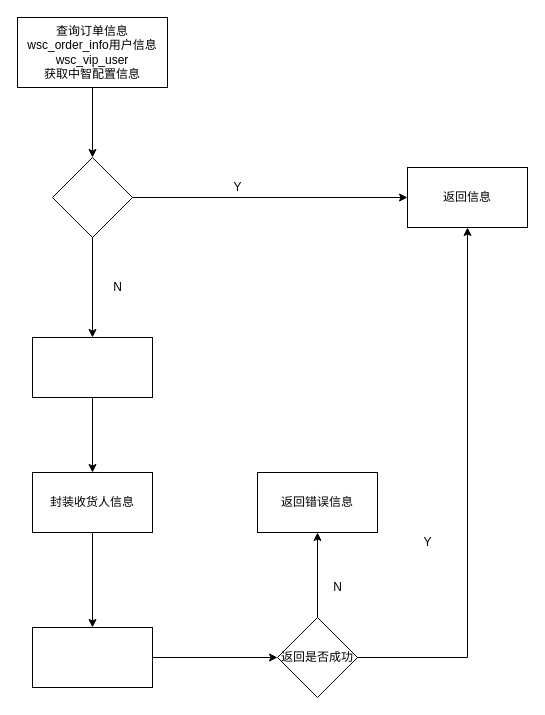
Image size: 545x715. Some labels were removed from this diagram. Here are the shapes that lost their labels. From the top down, the centre of each, then its label:
At [92,197]: "是否存在第三方订单号".
At [92,367]: "封装订单明细 运费也添加到明细".
At [92,657]: "封装中智请求body encoder".
